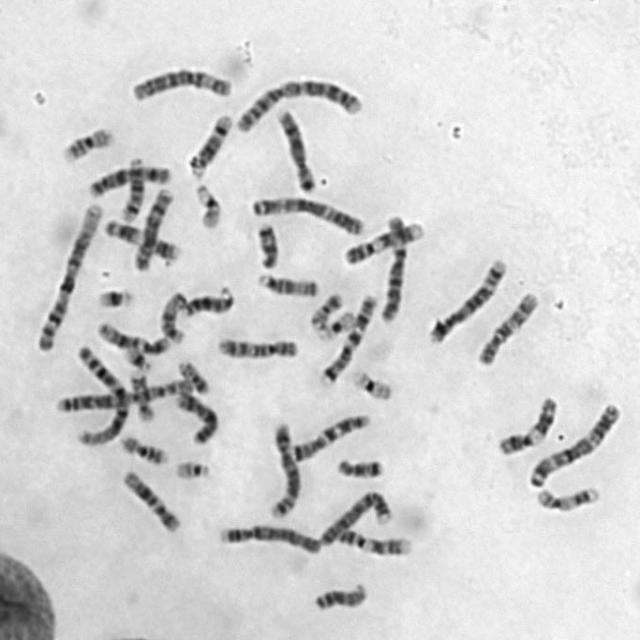A1: (33, 196, 107, 353), (70, 340, 132, 447)
A2: (230, 73, 366, 134), (52, 374, 196, 415)
A3: (524, 397, 624, 490), (246, 190, 368, 238)
B4: (315, 486, 393, 548), (214, 518, 323, 557)
B5: (424, 253, 509, 346), (266, 417, 304, 520)
C10: (472, 285, 542, 368), (212, 332, 300, 361)
C11: (493, 390, 560, 457), (99, 212, 183, 262)
C12: (118, 465, 184, 534), (94, 316, 172, 355)
C6: (127, 62, 235, 103), (377, 208, 410, 324)
C7: (316, 288, 379, 386), (287, 409, 373, 463)
C8: (272, 103, 320, 194), (128, 183, 174, 273)
C9: (339, 216, 426, 266), (333, 523, 414, 557)
D13: (179, 281, 235, 319), (310, 577, 369, 613)
D14: (186, 108, 235, 180), (116, 152, 146, 224)
D15: (252, 267, 321, 299), (156, 286, 188, 346)
E16: (58, 121, 117, 164), (116, 430, 170, 466)
E17: (532, 480, 603, 513), (124, 364, 156, 424)
E18: (333, 452, 387, 481), (252, 218, 281, 270)
F19: (348, 365, 396, 402), (314, 305, 357, 342)
F20: (305, 287, 346, 330), (173, 355, 212, 395)
G21: (93, 282, 136, 311), (120, 341, 154, 373)
G22: (191, 178, 225, 230), (170, 454, 212, 482)
X: (86, 158, 174, 199), (172, 388, 221, 447)
